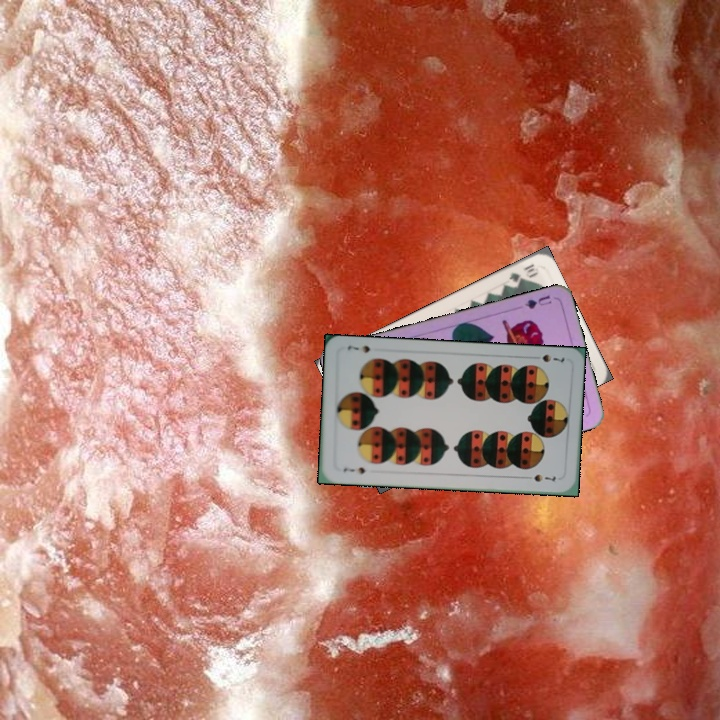G10: (505, 260, 540, 286)
GU: (521, 291, 554, 312)
S7: (528, 350, 567, 365), (339, 463, 368, 477)
